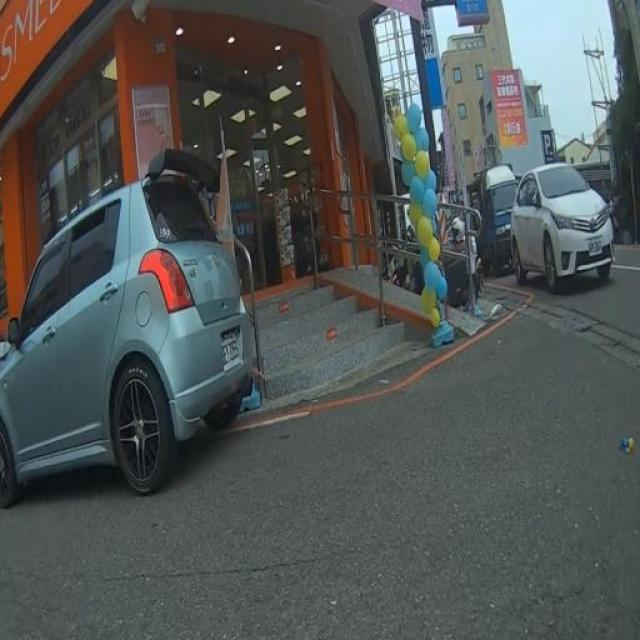Legalparking: (0, 141, 255, 500), (476, 147, 640, 344)
